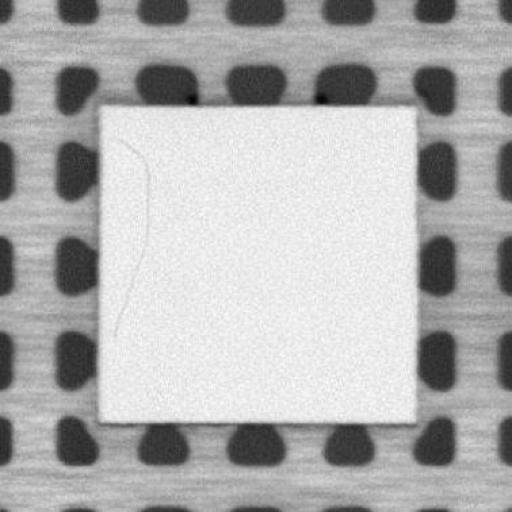DIE_CRACK: (108, 134, 153, 340)
